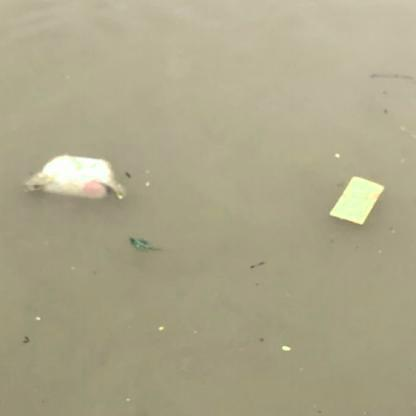Trash: (24, 153, 125, 201), (329, 175, 387, 227)
